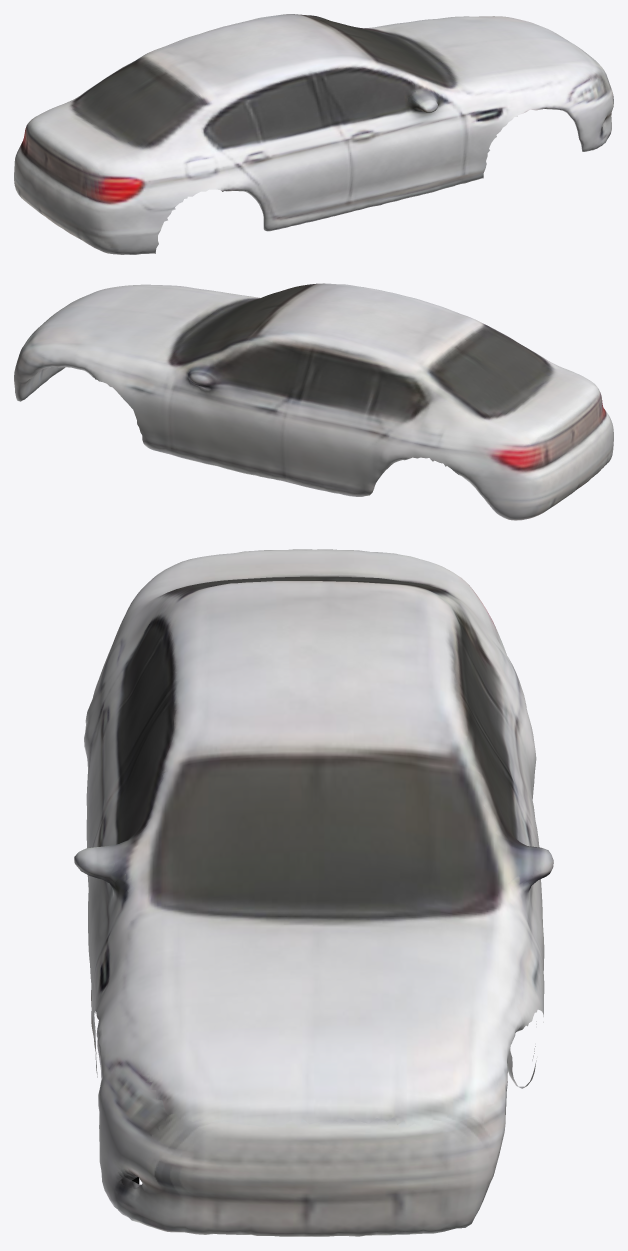
The model's file is body-separate-v5.glb.
The picture shows the model from 3 angles, top to bottom: view 1: azimuth 30°, elevation 25°; view 2: azimuth 150°, elevation 25°; view 3: azimuth 270°, elevation 25°; orthographic projection. The views are drawn at different scales.
Parts seen in each view (by area): view 1: geometry_0; view 2: geometry_0; view 3: geometry_0.
Boxes of the visible parts, <box> form: geometry_0: <box>14,14,613,254</box>; geometry_0: <box>14,283,613,520</box>; geometry_0: <box>74,549,553,1236</box>.
Bounding box in the file's own units: 4.91 × 1.22 × 1.88.
Materials: 1 (1 with a texture image).
